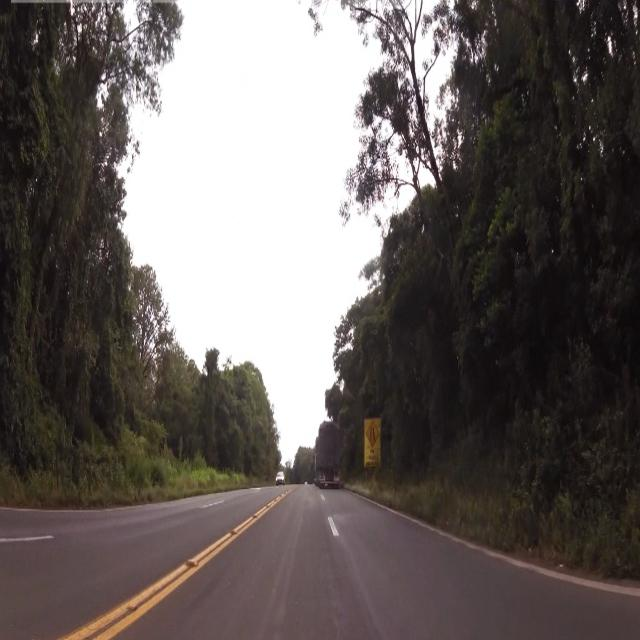A-21c: (367, 420, 380, 448)
